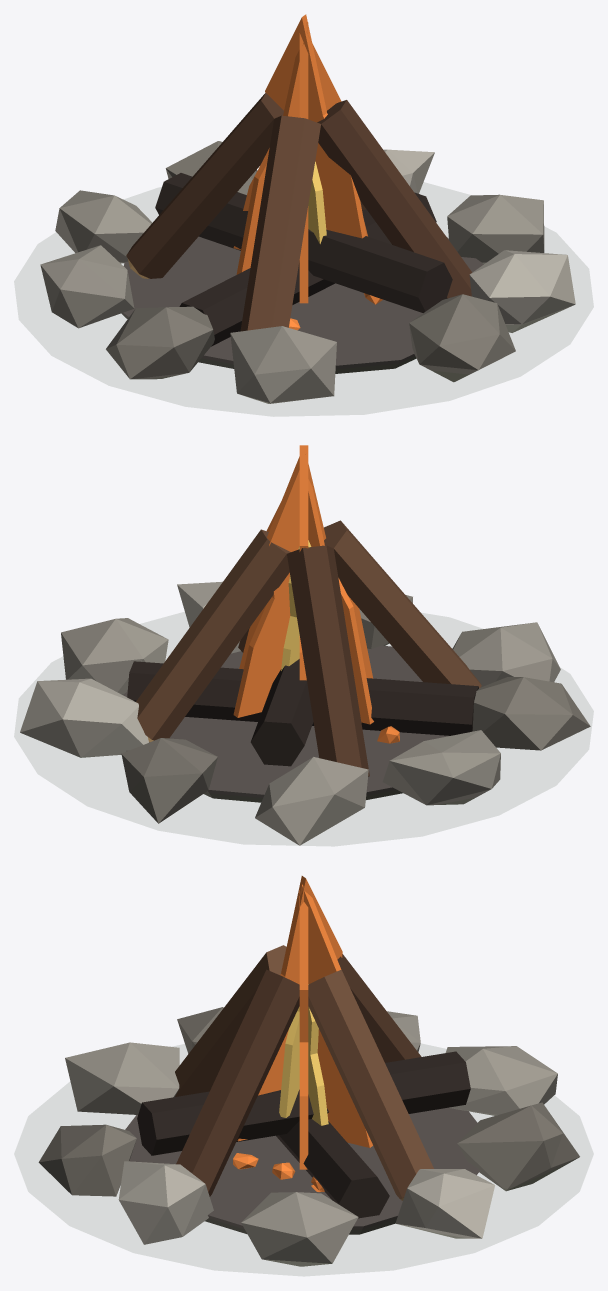
Rendered from campfire.glb.
The picture shows the model from 3 angles, top to bottom: view 1: azimuth 30°, elevation 25°; view 2: azimuth 150°, elevation 25°; view 3: azimuth 270°, elevation 25°; orthographic projection.
Visible parts, largest first — view 1: campfire; view 2: campfire; view 3: campfire.
Part boxes in pixels (box(x1,y1,x2,y2)): campfire: box(40, 14, 575, 403); campfire: box(20, 445, 590, 845); campfire: box(38, 876, 580, 1266).
Size of the model in its own units: 0.96 by 0.5436 by 0.96.
